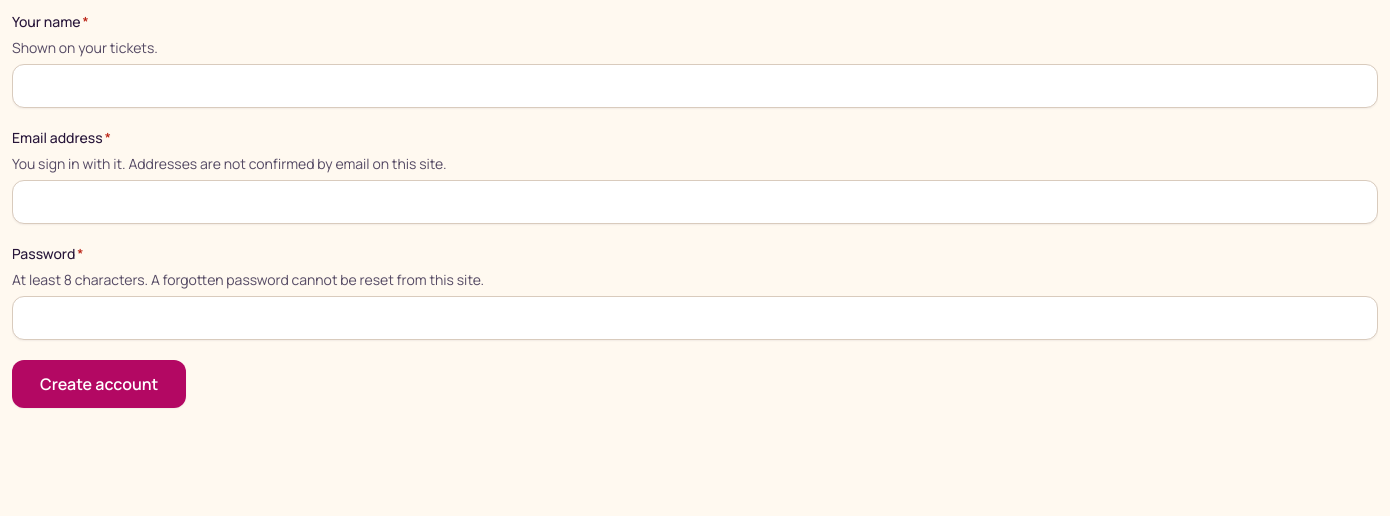
Scenario: RegisterForm › refuses a password the API would refuse, without asking it
This screenshot has width=1390, height=516.
In the field labelled "Your name*": (695, 86) top-left (12, 64), bottom-right (1378, 108), type "Meera Iyer"
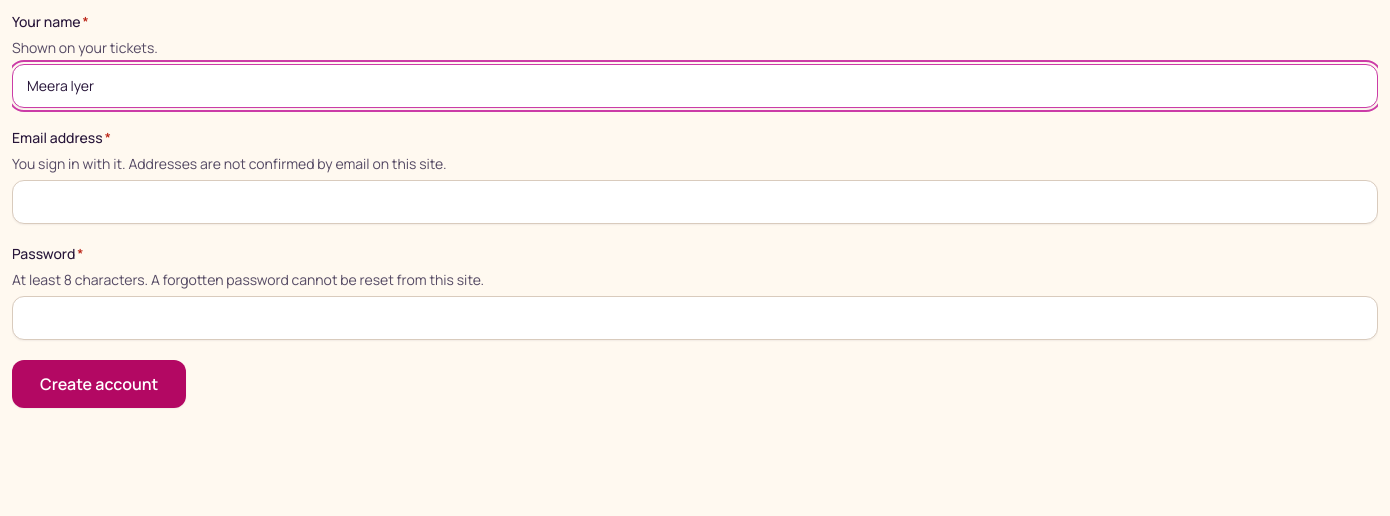
In the field labelled "Email address*": (695, 202) top-left (12, 180), bottom-right (1378, 224), type "meera@example.test"
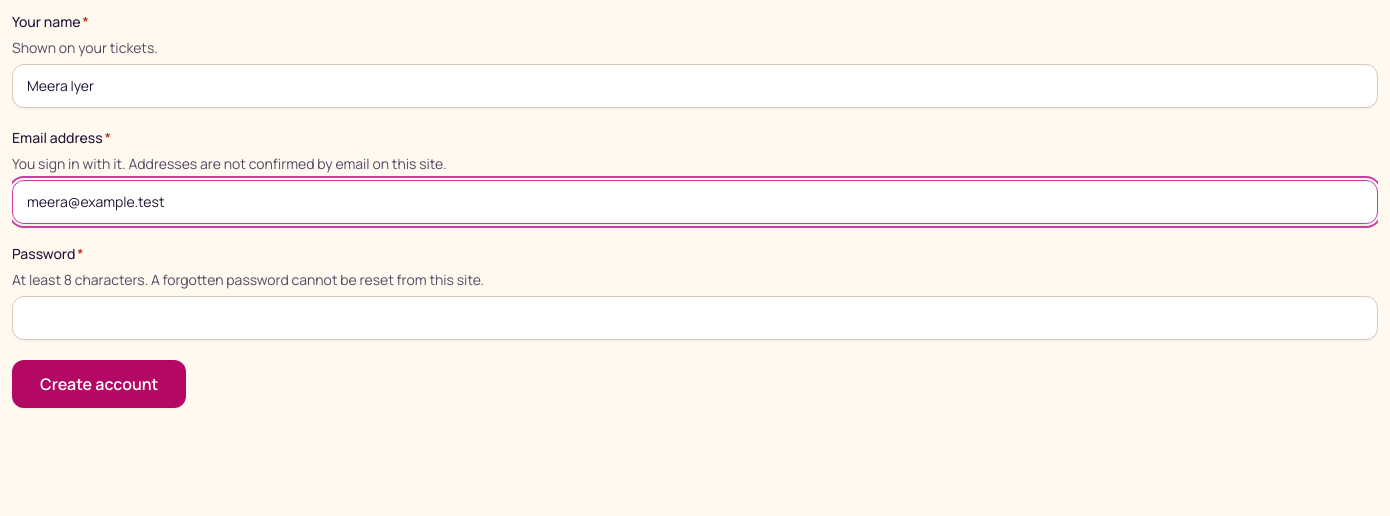
In the password field labelled "Password*": (695, 318) top-left (12, 296), bottom-right (1378, 340), type "short"
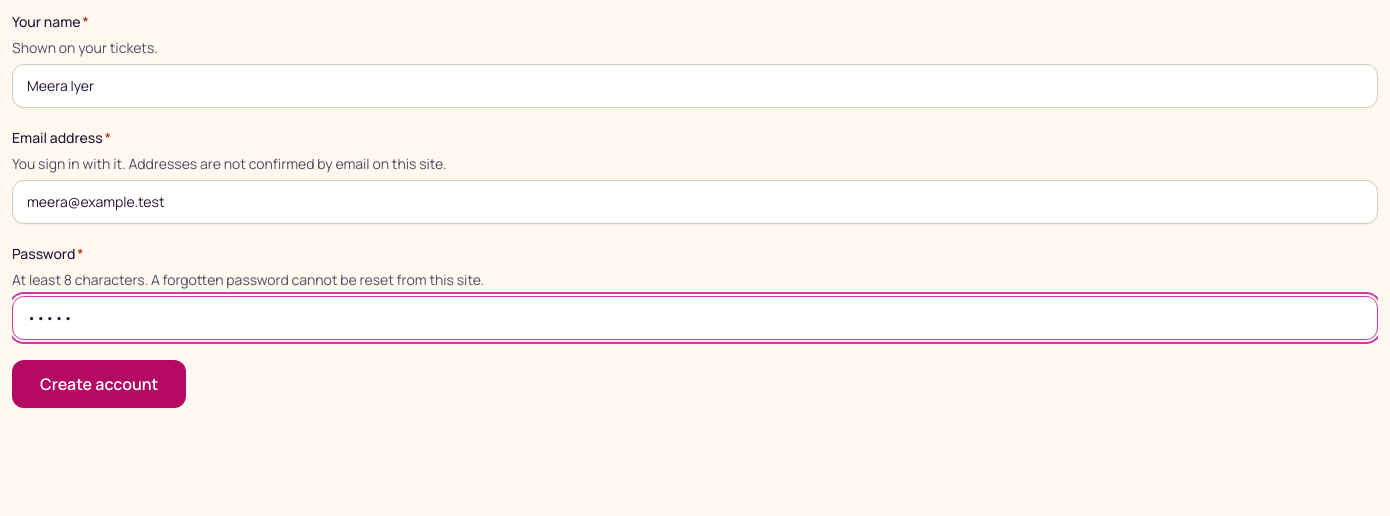
Click the button "Create account": (99, 384) top-left (12, 360), bottom-right (186, 408)
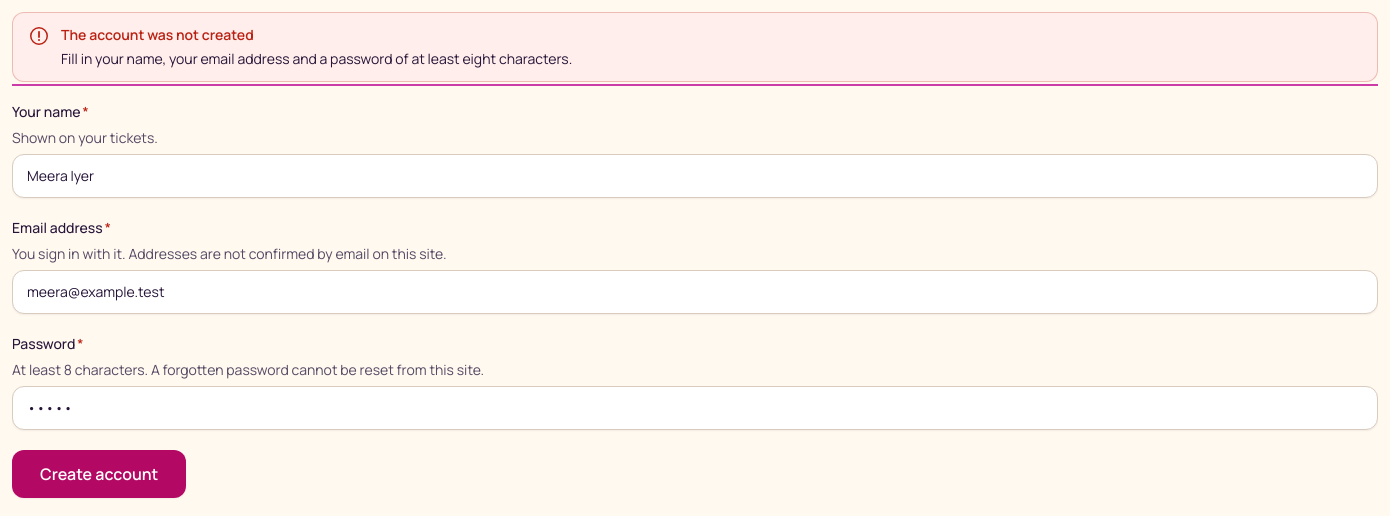
Result: the message shows "at least eight characters" at top-left (61, 49), bottom-right (572, 68)
